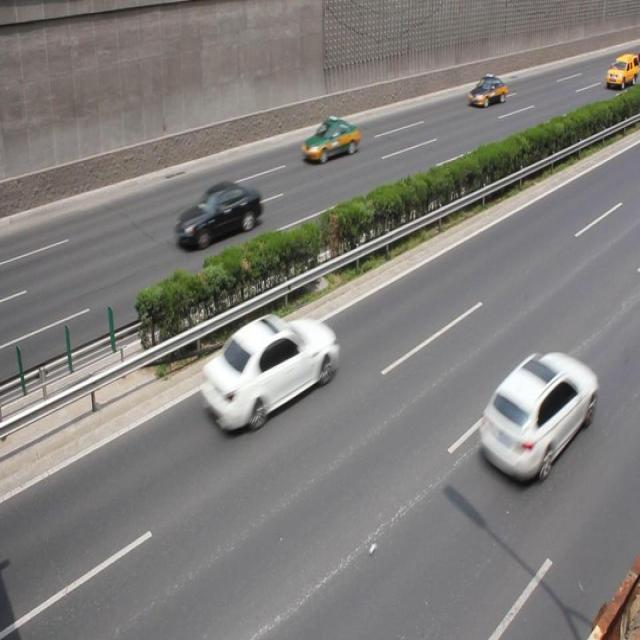car: (200, 310, 337, 433), (477, 348, 597, 482), (173, 179, 262, 250), (300, 116, 359, 164), (467, 73, 505, 107)
